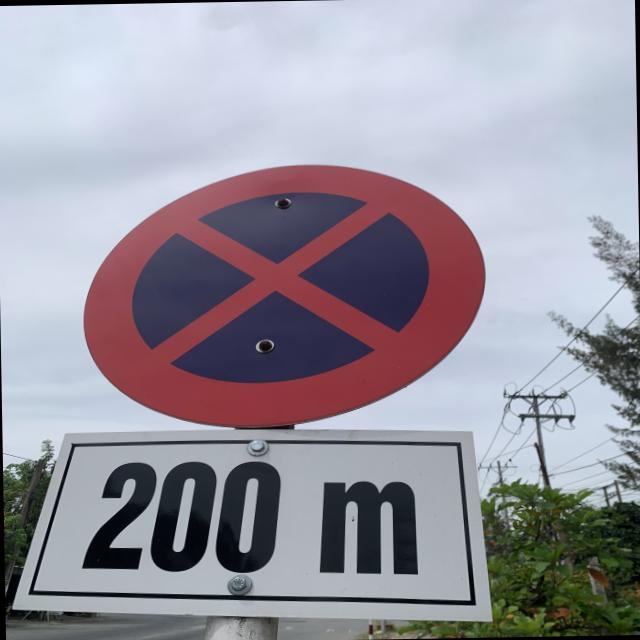Cam_Dung_Va_Dau_Xe: (82, 161, 490, 431)
